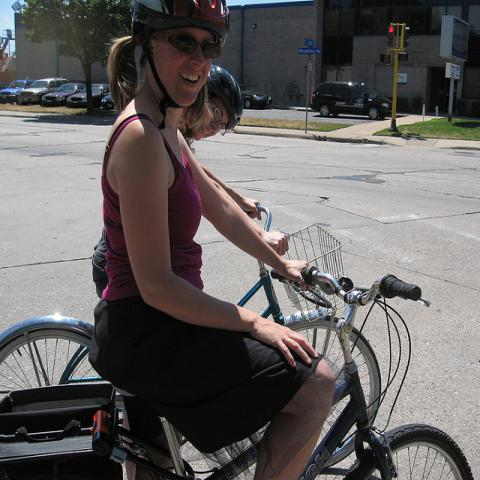car: (310, 81, 393, 119), (17, 77, 69, 106), (42, 84, 92, 105), (67, 84, 110, 108), (238, 83, 272, 108), (0, 80, 35, 103), (98, 93, 115, 109)
